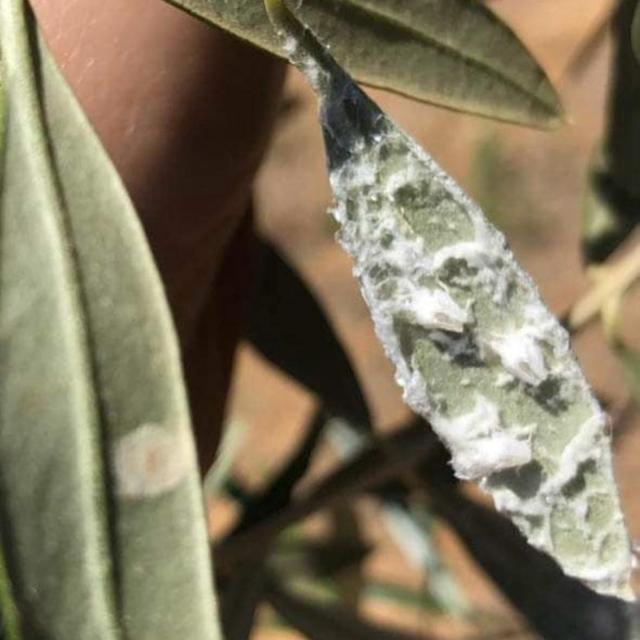Psyllid: (305, 57, 636, 602)
